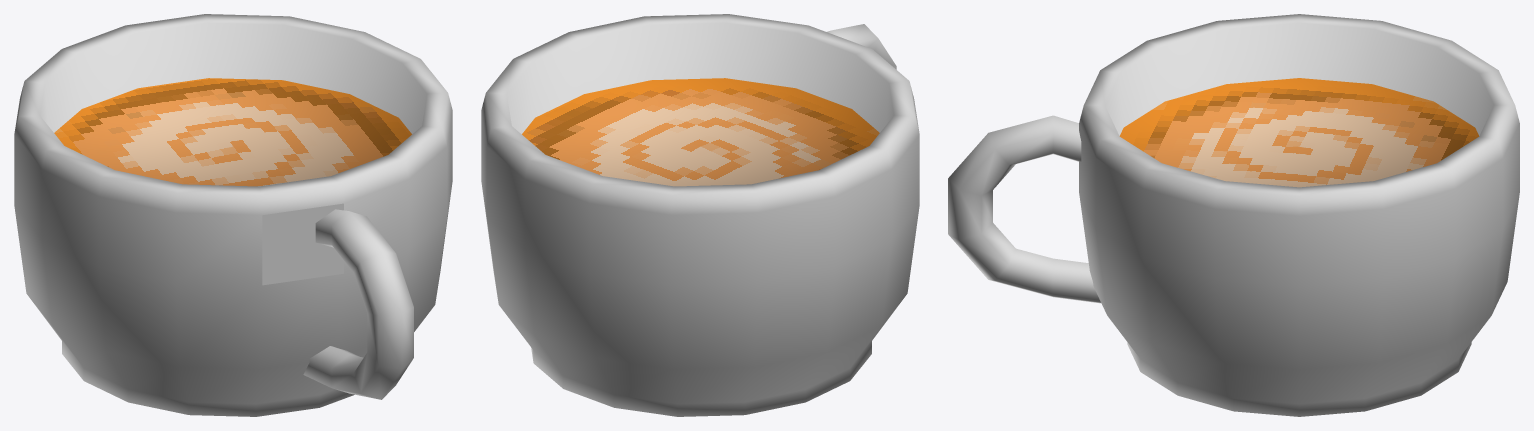
The model's file is low_poly_coffee_cup.obj.
3 views of the same model, side by side, from view 1: azimuth 30°, elevation 25°; view 2: azimuth 150°, elevation 25°; view 3: azimuth 270°, elevation 25° (orthographic).
Visible parts, largest first — view 1: obj1, obj2; view 2: obj1, obj2; view 3: obj1, obj2.
Part boxes in pixels (<box>): obj1: <box>14,14,452,416</box>; obj2: <box>54,78,411,186</box>; obj1: <box>481,14,919,416</box>; obj2: <box>522,78,879,186</box>; obj1: <box>948,14,1519,416</box>; obj2: <box>1119,78,1479,187</box>.
Bounding box in the file's own units: 2.04 × 1.22 × 2.65.
2 materials, 1 textured.
